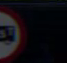Heavy Vehicles: (0, 5, 25, 58)
